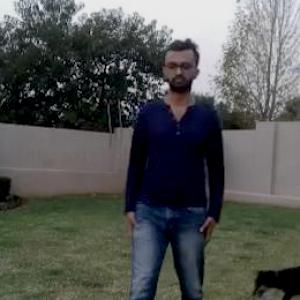follow: (125, 36, 227, 299)
